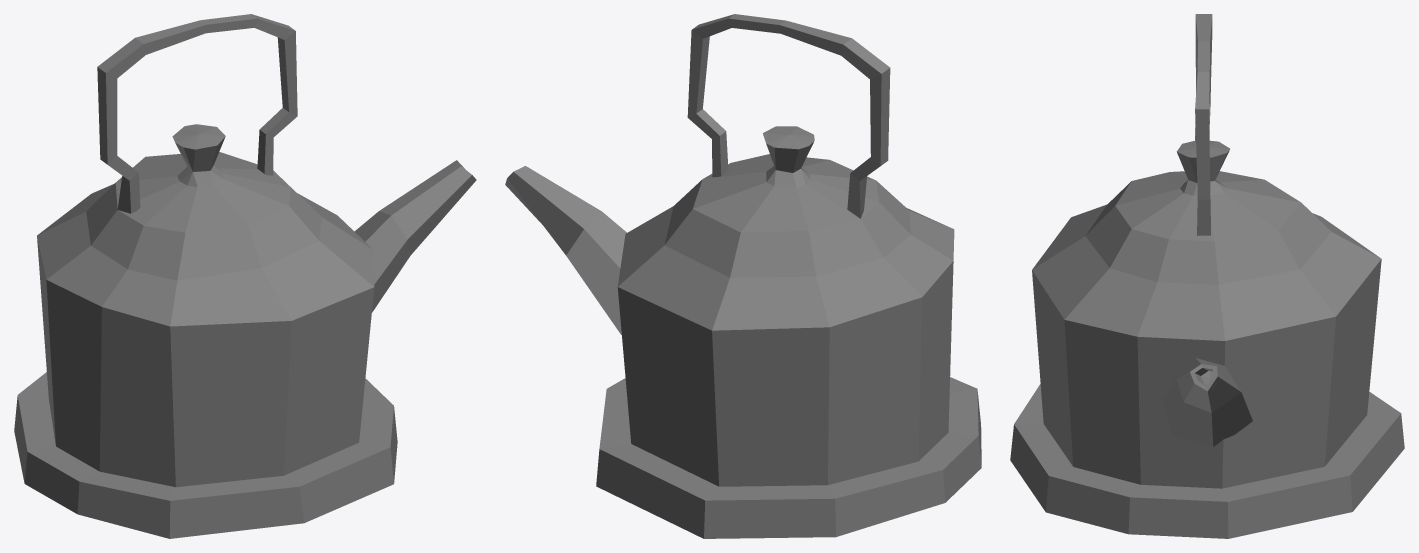
The model's file is kettle.obj.
The picture shows the model from 3 angles, left to right: view 1: azimuth 30°, elevation 25°; view 2: azimuth 150°, elevation 25°; view 3: azimuth 270°, elevation 25°; orthographic projection. The views are drawn at different scales.
Parts seen in each view (by area): view 1: Kettle; view 2: Kettle; view 3: Kettle.
Part boxes in pixels (bbox=[...]): Kettle: bbox=[14, 14, 476, 538]; Kettle: bbox=[505, 14, 981, 538]; Kettle: bbox=[1010, 14, 1404, 538].
Size of the model in its own units: 0.9588 by 0.8883 by 0.7589.
Materials: 1 (1 with a texture image).
